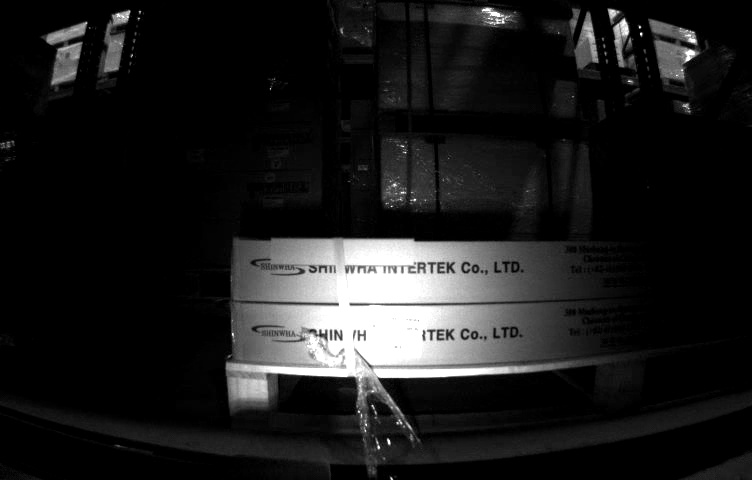True Barcode: (368, 306, 422, 359)
